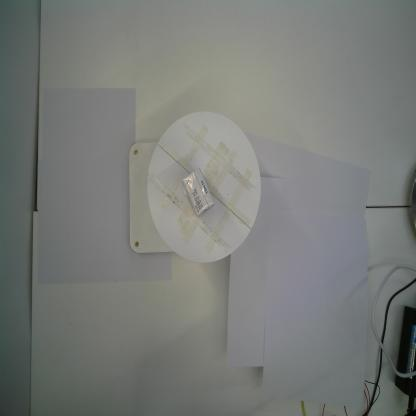Milk: (180, 167, 215, 217)
